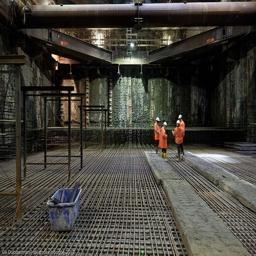hat: (160, 119, 172, 130), (177, 111, 187, 124), (153, 116, 164, 127), (174, 120, 183, 130)
no vest: (150, 123, 166, 144), (159, 128, 171, 151), (174, 127, 186, 150), (181, 120, 189, 141)
